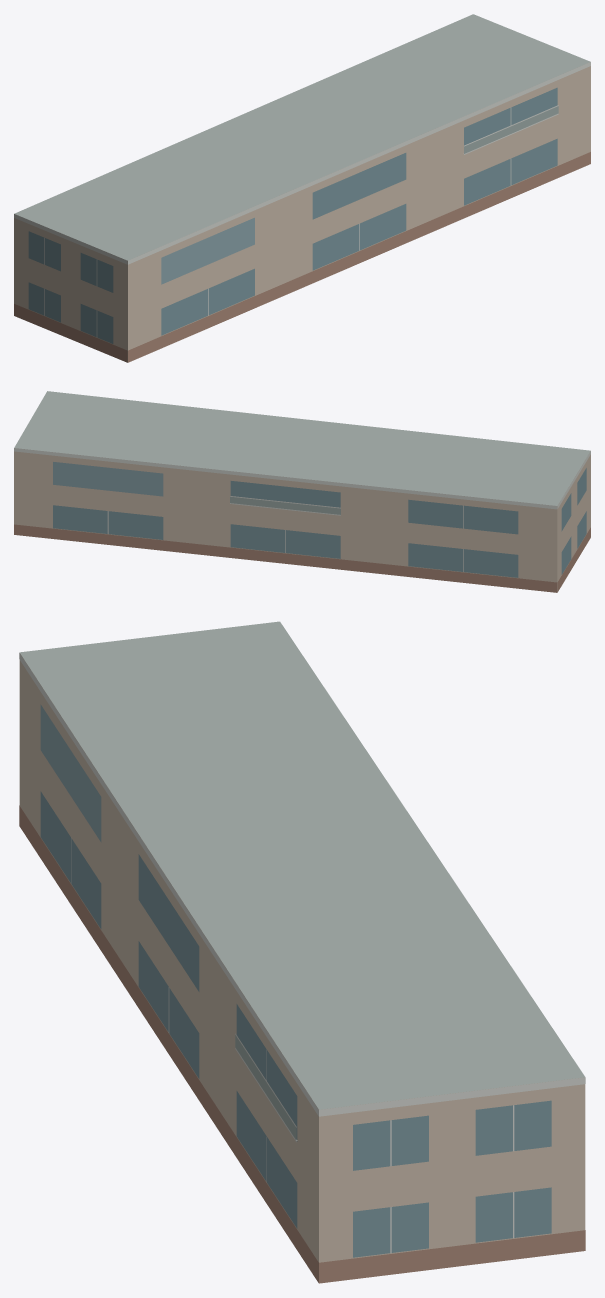
Rendered from survey-upis-32718511.glb.
3 renders of one model, top to bottom at view 1: azimuth 30°, elevation 25°; view 2: azimuth 150°, elevation 25°; view 3: azimuth 270°, elevation 25°, orthographic. The views are drawn at different scales.
Parts seen in each view (by area): view 1: survey-upis-32718511.tmp; view 2: survey-upis-32718511.tmp; view 3: survey-upis-32718511.tmp.
Part boxes in pixels (x1,y1,x2,y2): survey-upis-32718511.tmp: [14, 14, 590, 362]; survey-upis-32718511.tmp: [14, 391, 590, 592]; survey-upis-32718511.tmp: [19, 621, 585, 1283].
Bounding box in the file's own units: 36.79 × 6.1 × 18.03.
